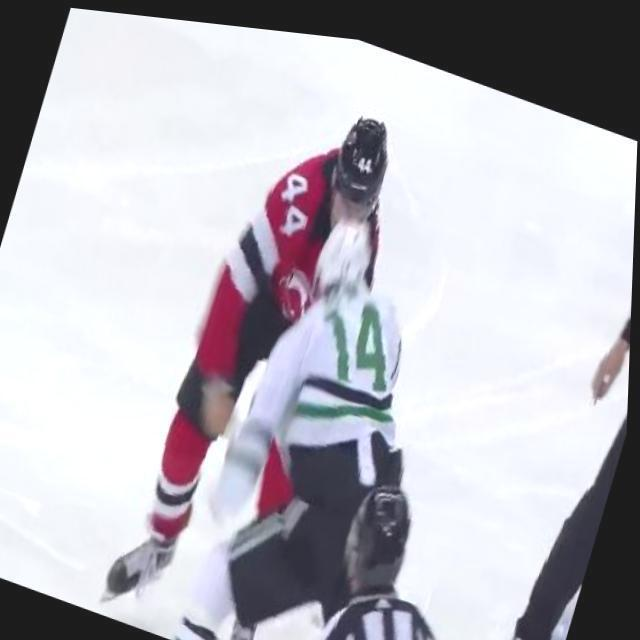fight: (106, 57, 504, 640)
